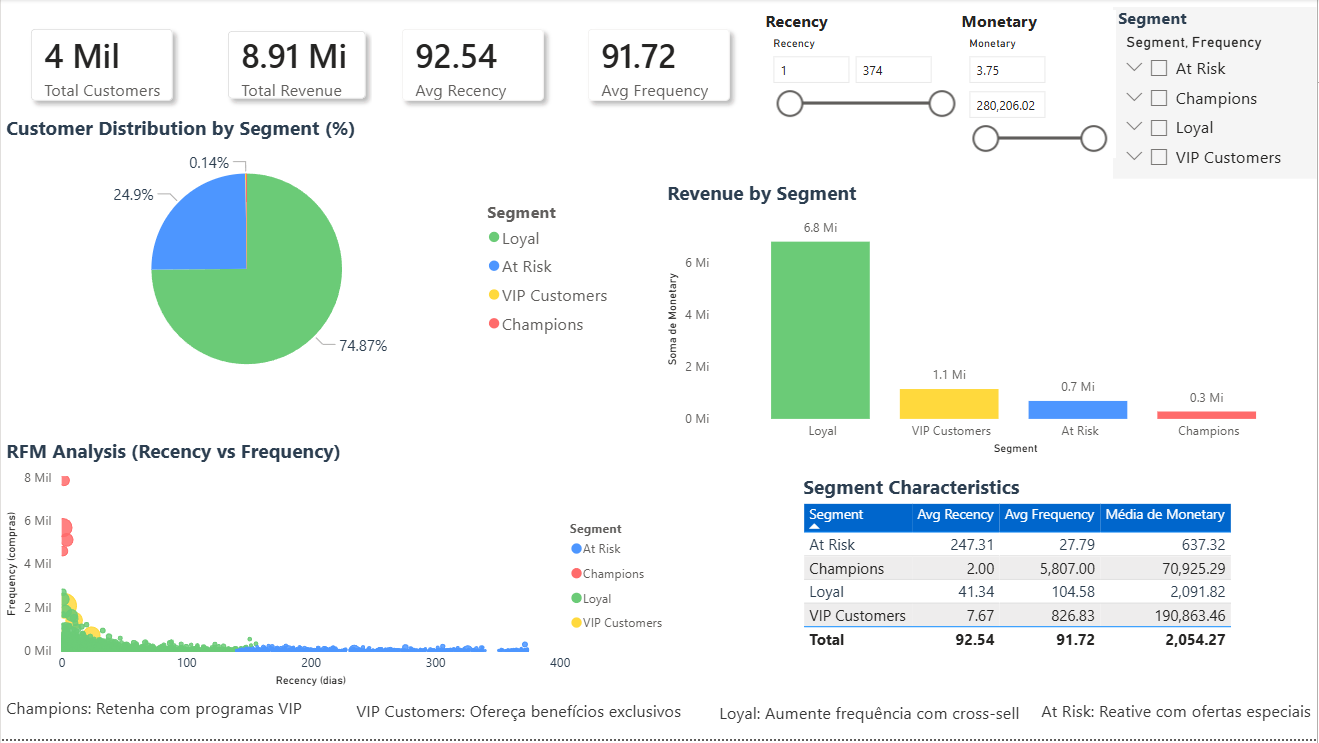

What the dashboard file says about the page in this screenshot:
{"tool":"powerbi","page":{"name":"Dashboard","canvas":[1280,720],"ordinal":0},"visuals":[{"type":"cardVisual","fields":{"Data":["customers_segmented.Total Customers"]},"box":[0,0,196,128.4],"z":0},{"type":"cardVisual","fields":{"Data":["customers_segmented.Total Revenue"]},"box":[189.7,0,196,128],"z":1000},{"type":"cardVisual","fields":{"Data":["customers_segmented.Avg Recency"]},"box":[360.9,0,196.5,128.4],"z":2000},{"type":"cardVisual","fields":{"Data":["customers_segmented.Avg Frequency"]},"box":[541.8,0,196.5,128.4],"z":3000},{"type":"pieChart","title":"Customer Distribution by Segment (%)","fields":{"Category":["customers_segmented.Segment"],"Y":["CountNonNull(customers_segmented.CustomerID)"]},"box":[0,111.9,604,276.2],"z":4000},{"type":"columnChart","title":"Revenue by Segment","fields":{"Category":["customers_segmented.Segment"],"Y":["Sum(customers_segmented.Monetary)"]},"box":[642.9,175.1,637.1,272.3],"z":5000},{"type":"scatterChart","title":"RFM Analysis (Recency vs Frequency)","fields":{"X":["customers_segmented.Recency"],"Y":["customers_segmented.Frequency"],"Size":["Avg(customers_segmented.Monetary)"],"Series":["customers_segmented.Segment"]},"box":[0,426,657.5,247.1],"z":6000},{"type":"tableEx","title":"Segment Characteristics","fields":{"Values":["customers_segmented.Segment","customers_segmented.Avg Recency","customers_segmented.Avg Frequency","Avg(customers_segmented.Monetary)"]},"box":[775.2,461,430.9,212],"z":7000},{"type":"textbox","box":[0,673.1,313.2,46.7],"z":8000},{"type":"textbox","box":[340.4,676,339.5,43.8],"z":9000},{"type":"textbox","box":[693.5,677.9,313.2,37],"z":10000},{"type":"textbox","box":[1006.7,676,273.3,43.8],"z":11000},{"type":"slicer","title":"Segment","fields":{"Values":["customers_segmented.Segment","customers_segmented.Frequency"]},"box":[1081.6,7.8,198.4,167.3],"z":12000},{"type":"slicer","title":"Recency","fields":{"Values":["customers_segmented.Recency"]},"box":[738.2,10.7,197.4,117.7],"z":13000},{"type":"slicer","title":"Monetary","fields":{"Values":["customers_segmented.Monetary"]},"box":[928.9,10.7,154.7,143],"z":14000}]}

Visuals, with their boxes in screenshot pixels (x1, y1, x2, y2), scaled from the page's 1280x720 canvas onto the 1319x743 screenshot:
cardVisual - customers_segmented.Total Customers: {"left": 0, "top": 0, "right": 202, "bottom": 133}
cardVisual - customers_segmented.Total Revenue: {"left": 195, "top": 0, "right": 397, "bottom": 132}
cardVisual - customers_segmented.Avg Recency: {"left": 372, "top": 0, "right": 574, "bottom": 133}
cardVisual - customers_segmented.Avg Frequency: {"left": 558, "top": 0, "right": 761, "bottom": 133}
"Customer Distribution by Segment (%)" pieChart: {"left": 0, "top": 115, "right": 622, "bottom": 400}
"Revenue by Segment" columnChart: {"left": 662, "top": 181, "right": 1318, "bottom": 462}
"RFM Analysis (Recency vs Frequency)" scatterChart: {"left": 0, "top": 440, "right": 678, "bottom": 695}
"Segment Characteristics" tableEx: {"left": 799, "top": 476, "right": 1243, "bottom": 694}
textbox: {"left": 0, "top": 695, "right": 323, "bottom": 742}
textbox: {"left": 351, "top": 698, "right": 701, "bottom": 742}
textbox: {"left": 715, "top": 700, "right": 1037, "bottom": 738}
textbox: {"left": 1037, "top": 698, "right": 1318, "bottom": 742}
"Segment" slicer: {"left": 1115, "top": 8, "right": 1318, "bottom": 181}
"Recency" slicer: {"left": 761, "top": 11, "right": 964, "bottom": 133}
"Monetary" slicer: {"left": 957, "top": 11, "right": 1117, "bottom": 159}
